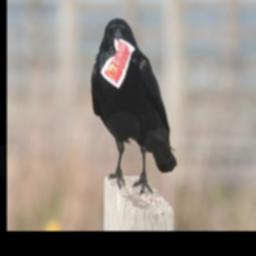Crow: (89, 17, 178, 197)
